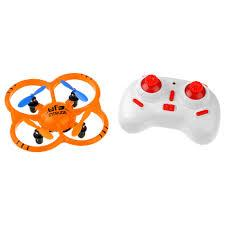drone: (0, 72, 110, 153)
